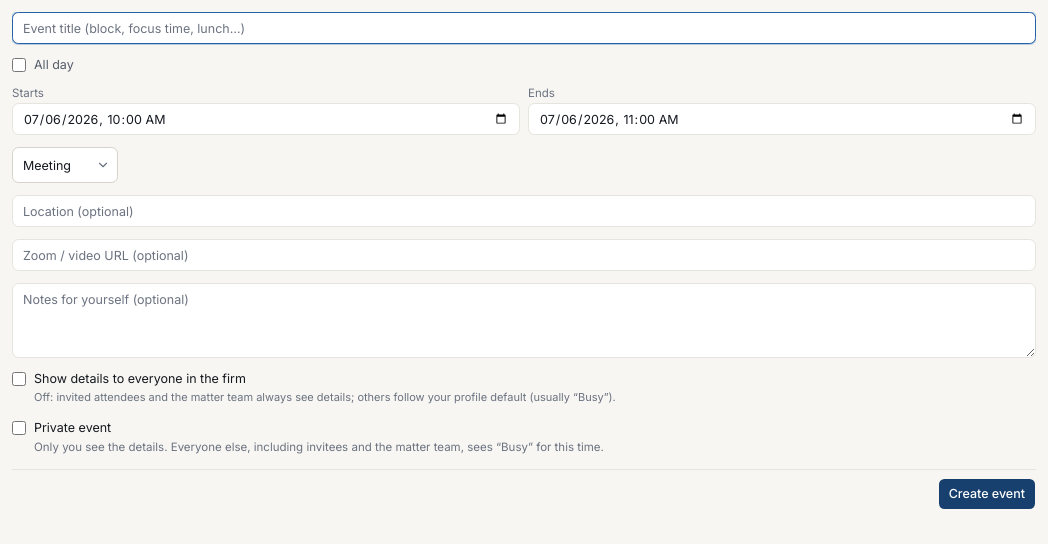
Scenario: NewEventComposer › a validation error keeps the typed fields
Type "Courtroom 5B" into the field with placeholder "Location (optional)".
click(524, 211); type("Courtroom 5B")  # box [12,195,1036,227]
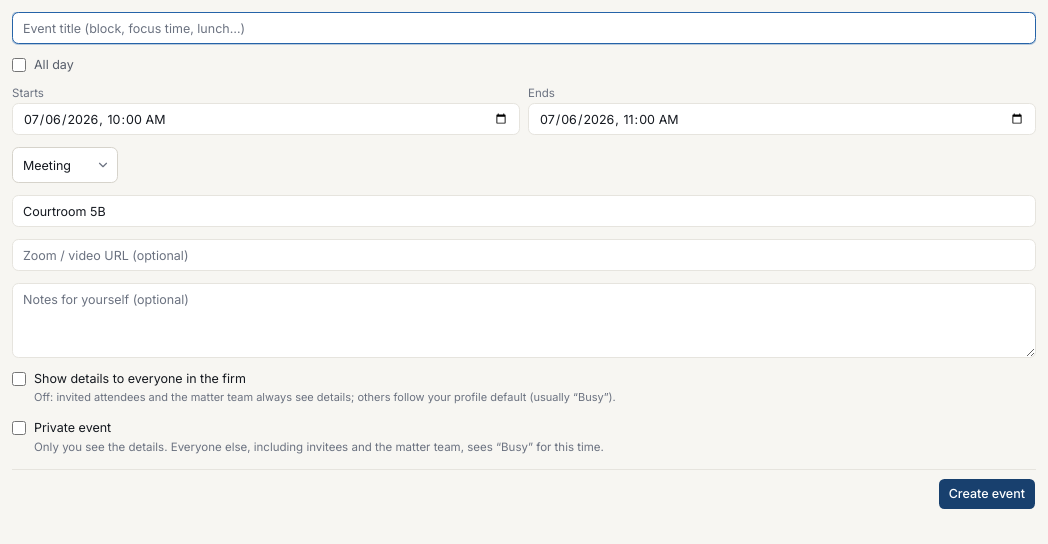
Submit the form named "create event"
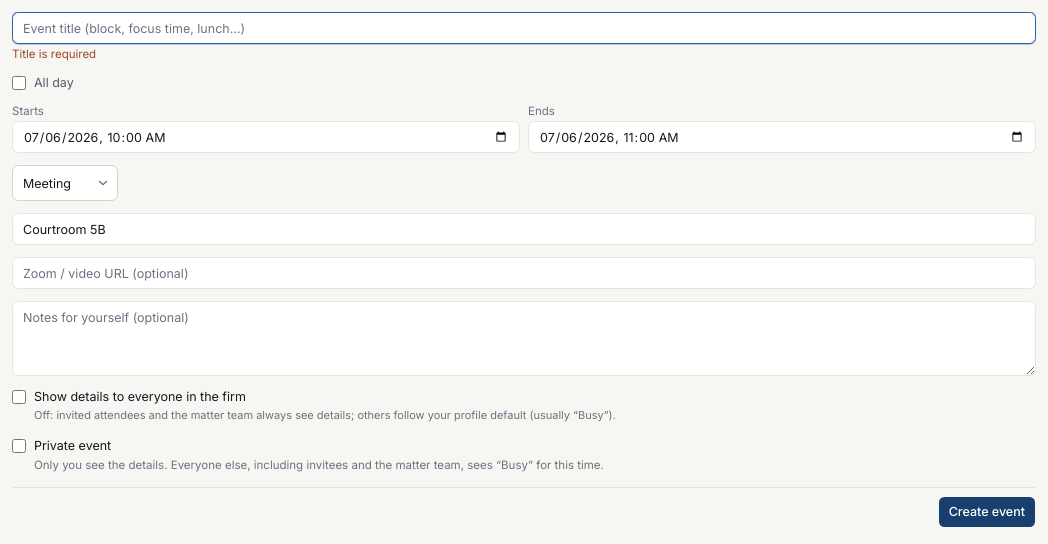
Expected: the text "Title is required" is shown, [12,47,96,61]
